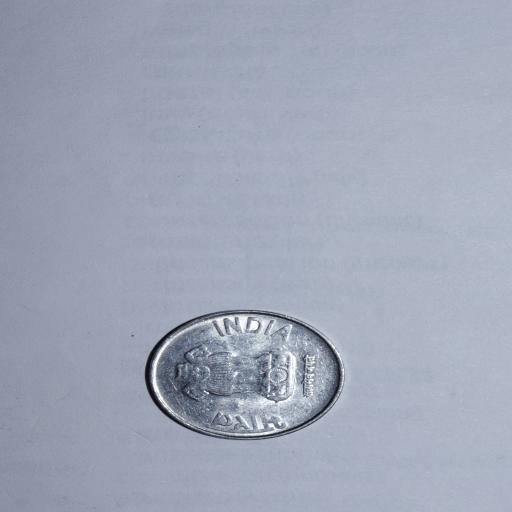rupee1: (140, 305, 351, 440)
